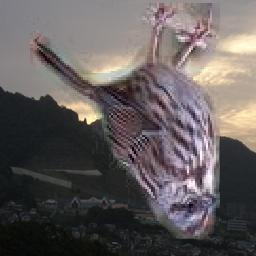Sparrow: (30, 3, 220, 239)
